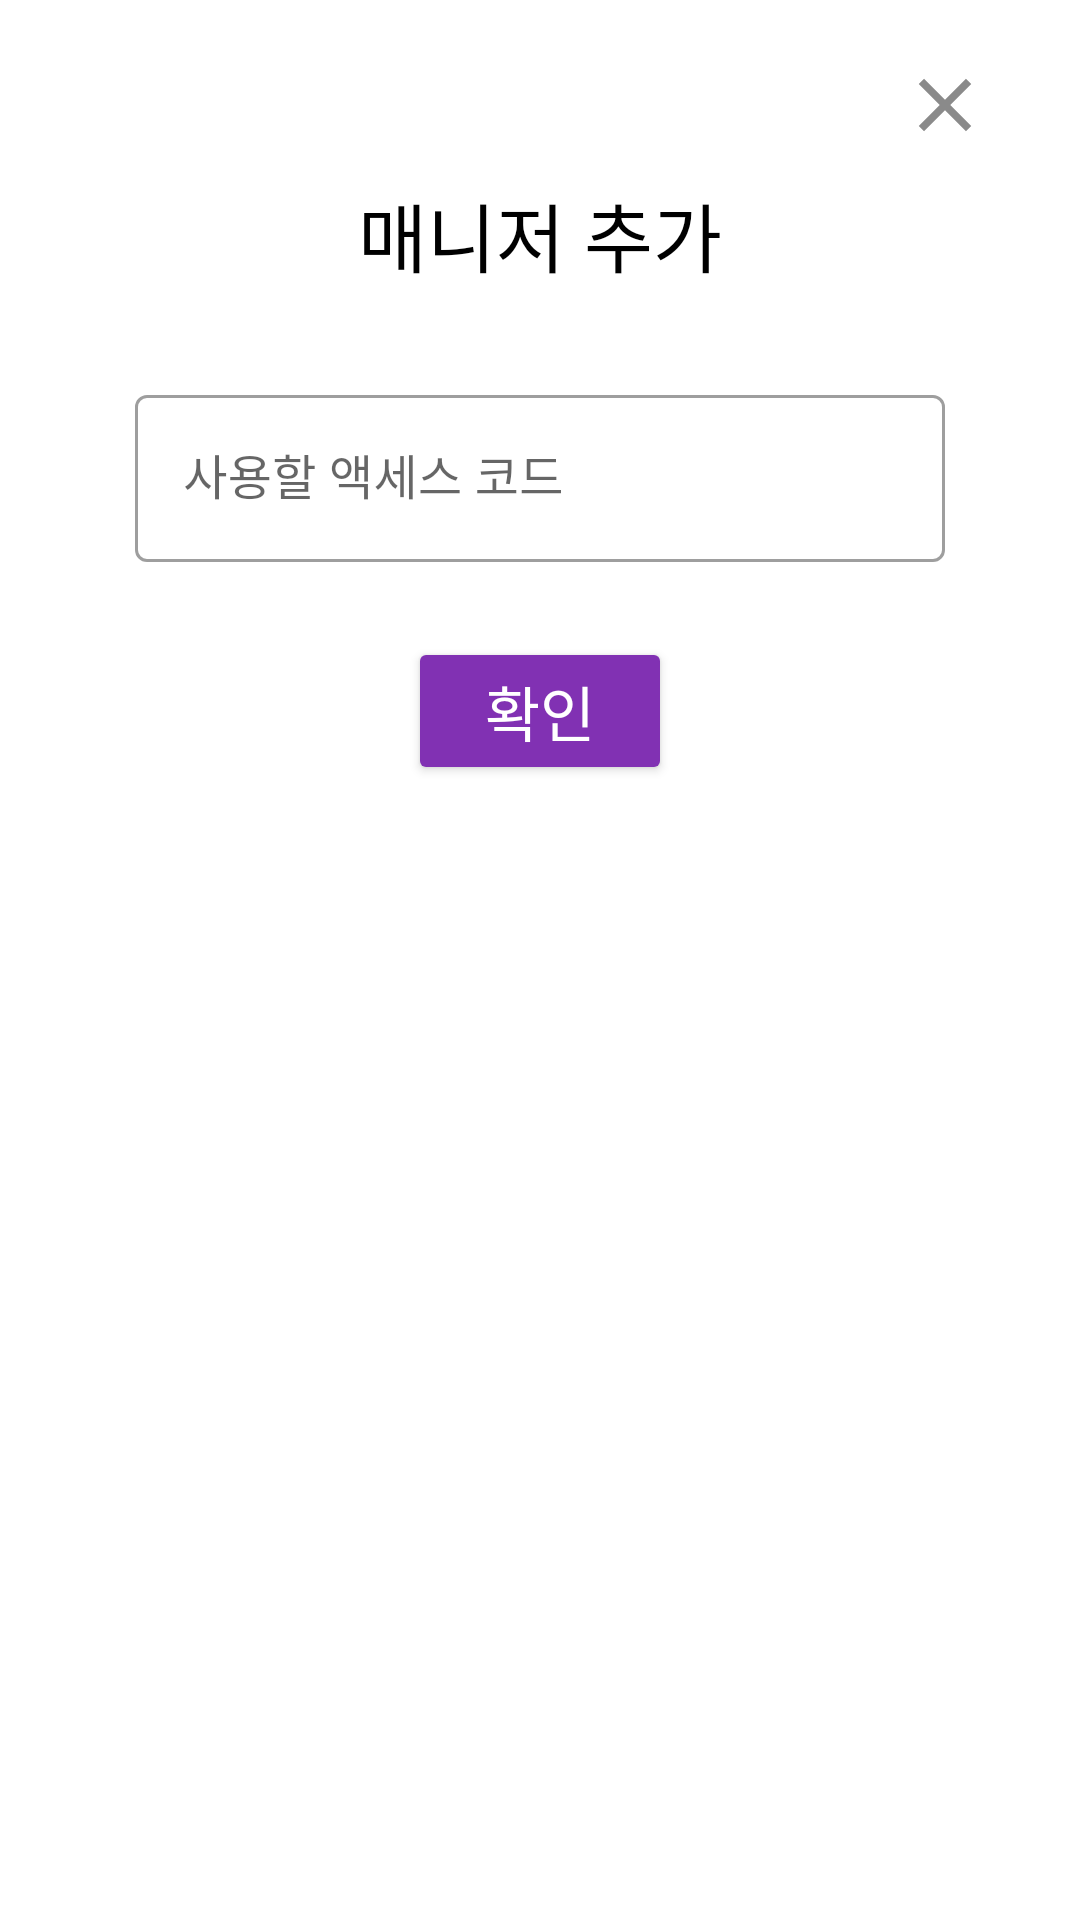

Where icons sit on this 1080 x 1920 app screen, as (x1, y1, x2, y2):
close: (919, 79, 971, 131)
